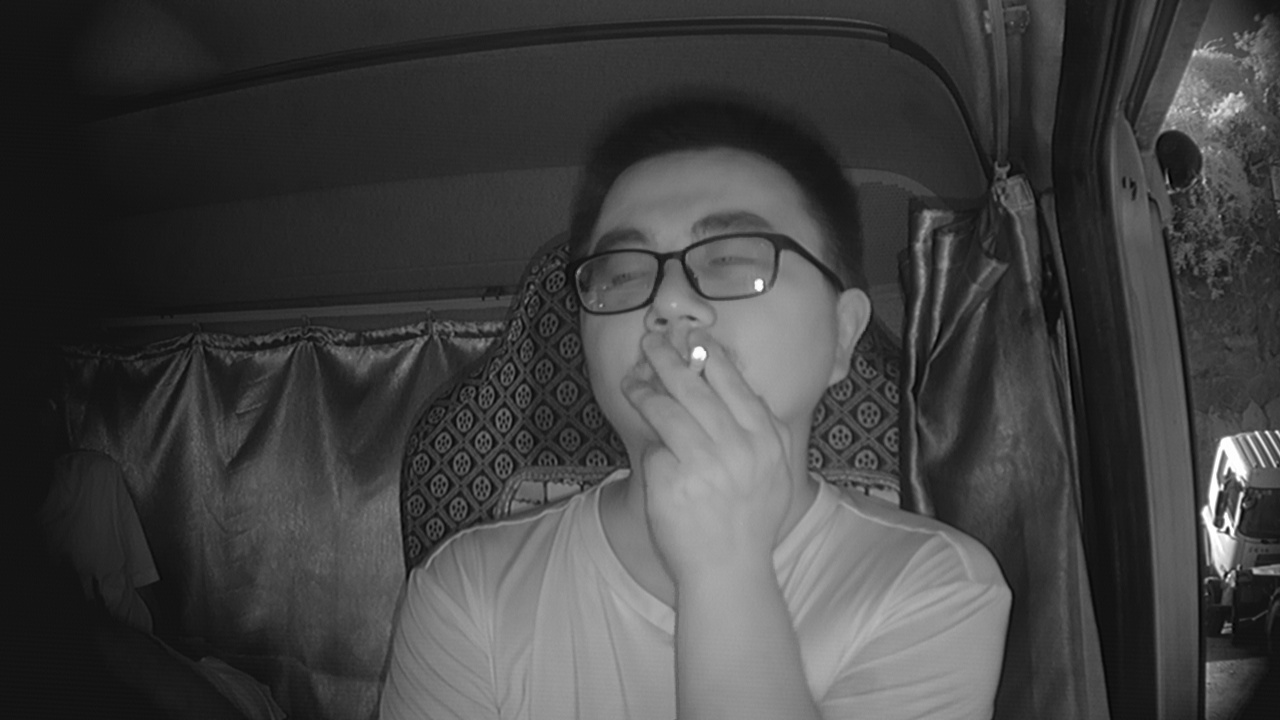hand: (624, 328, 789, 551)
